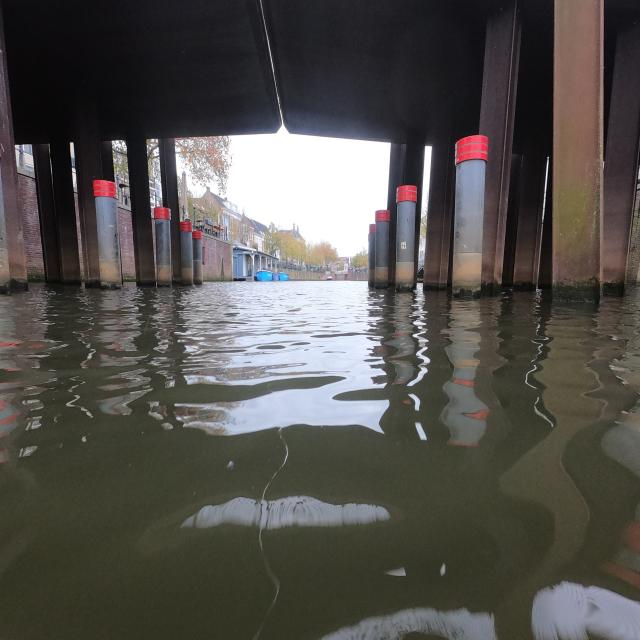boat: (255, 270, 274, 281), (279, 272, 290, 281)
sky: (232, 136, 390, 254)
wall: (2, 136, 46, 278), (194, 232, 230, 278)
water: (0, 282, 640, 640)
